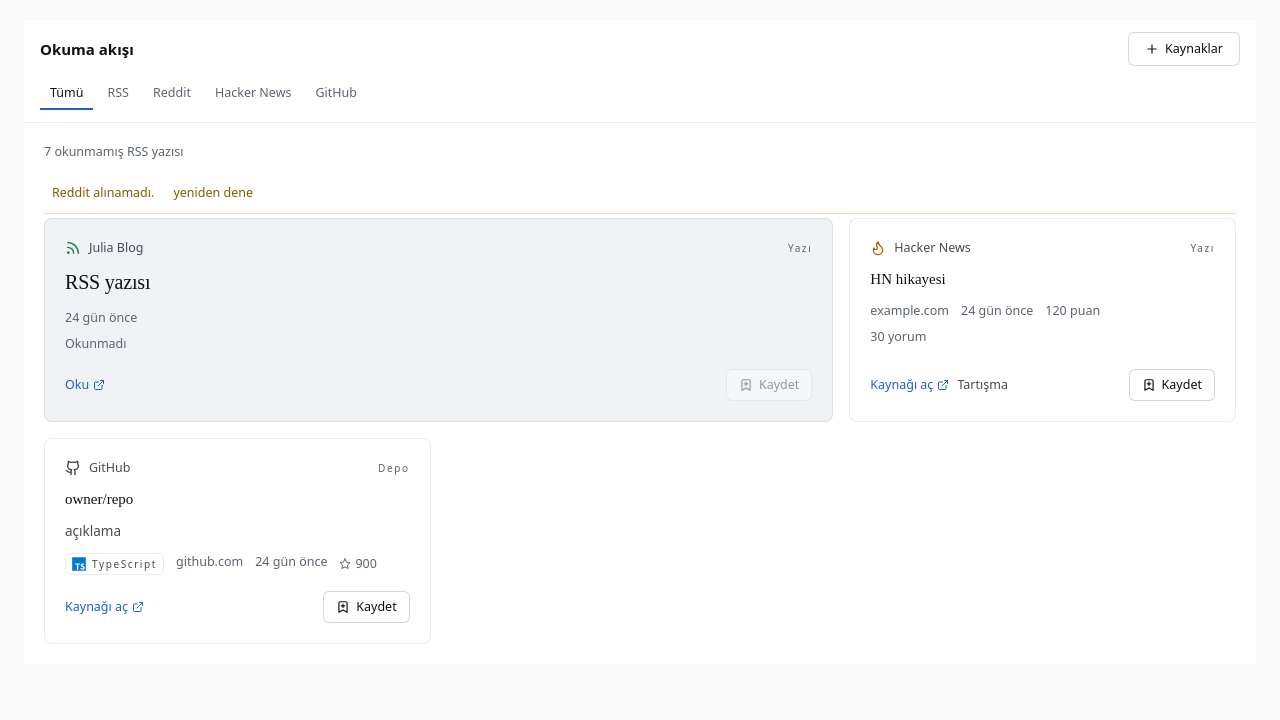
Scenario: Okuma Akışı sayfası › F8: yeniden dene düğmesi başarısız kaynağı tekrar ister
The image size is (1280, 720).
Click the button with aria-label "Reddit'i yeniden dene": (213, 193) 160,181 -> 266,205
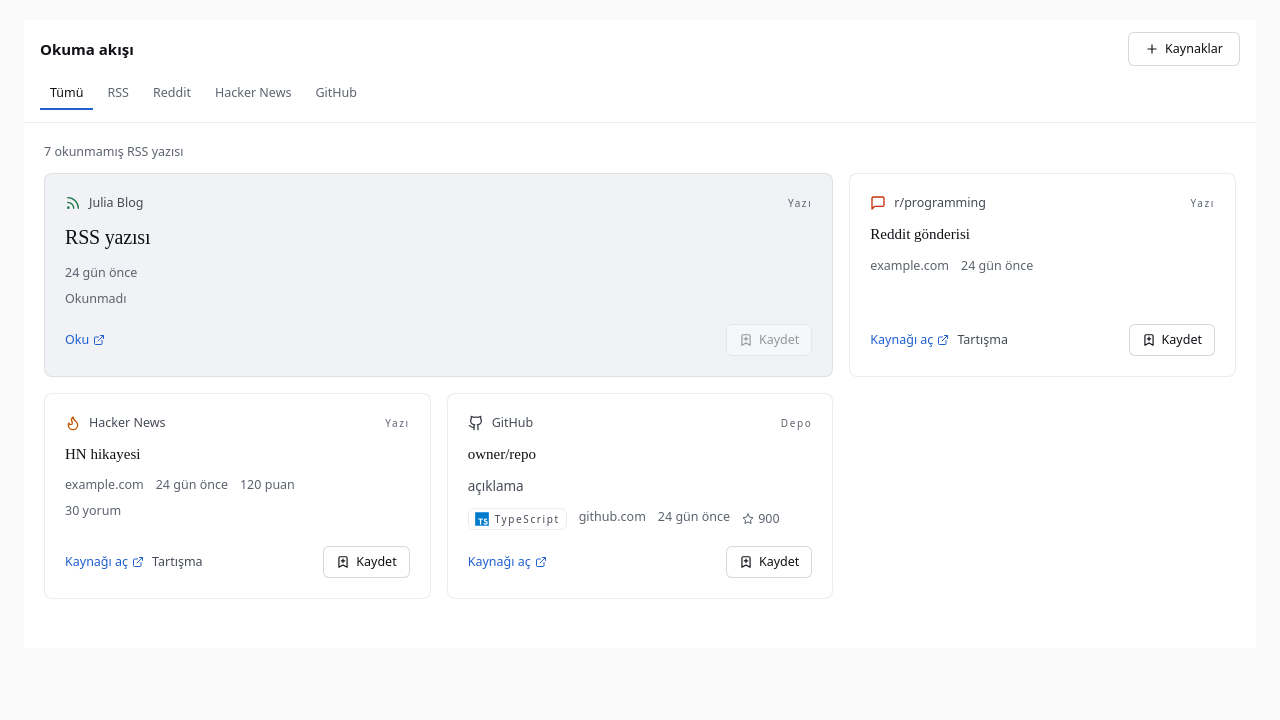
Result: the link "Reddit gönderisi" is shown at 870,226 -> 970,242
